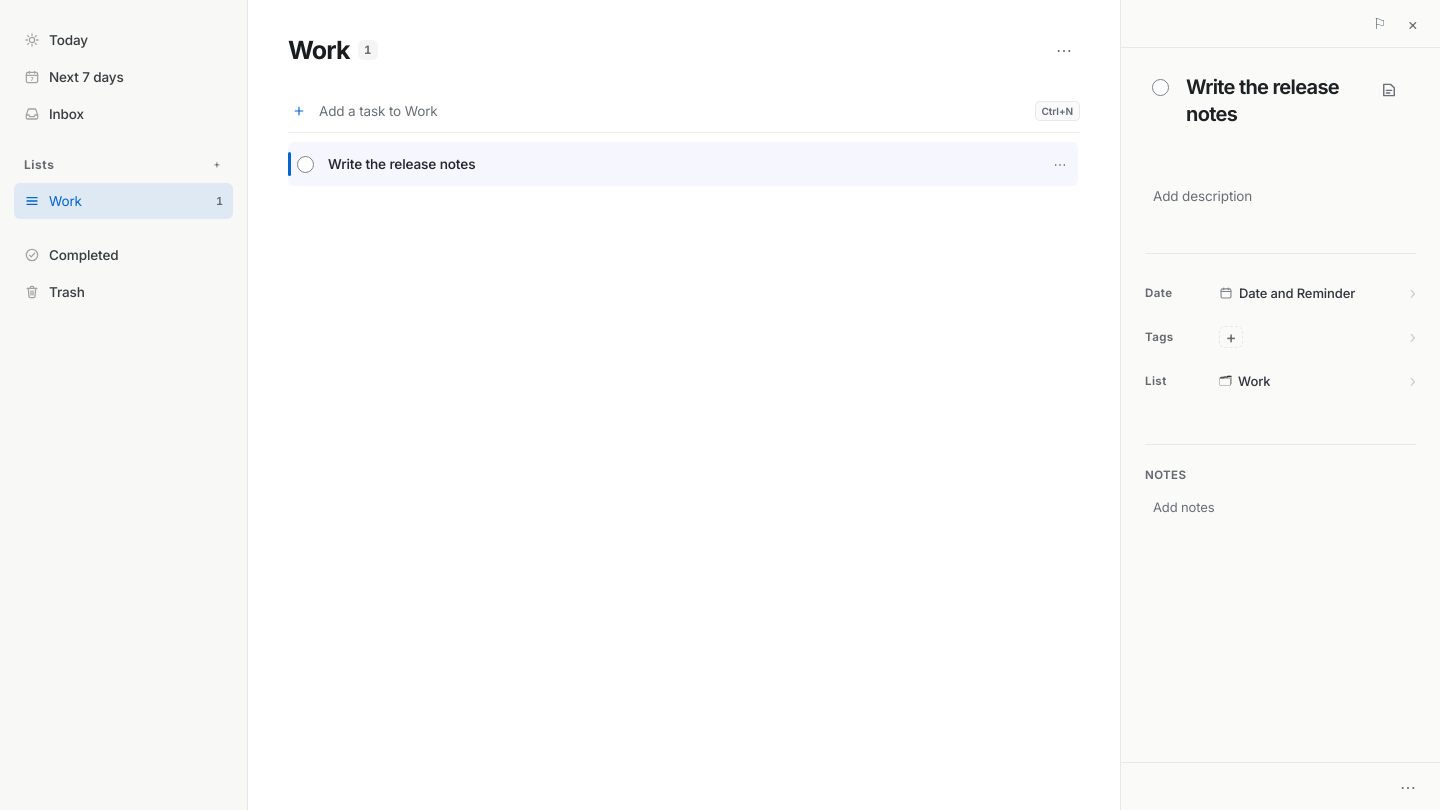
Test case: the Detail's More menu (§15.2, §15.3) › refuses Start Focus while another session runs, and says why (§15.5)
Later steps or results of the test are not shown.
Click the button named "More" at (1408, 786), box [1392,770,1424,802]
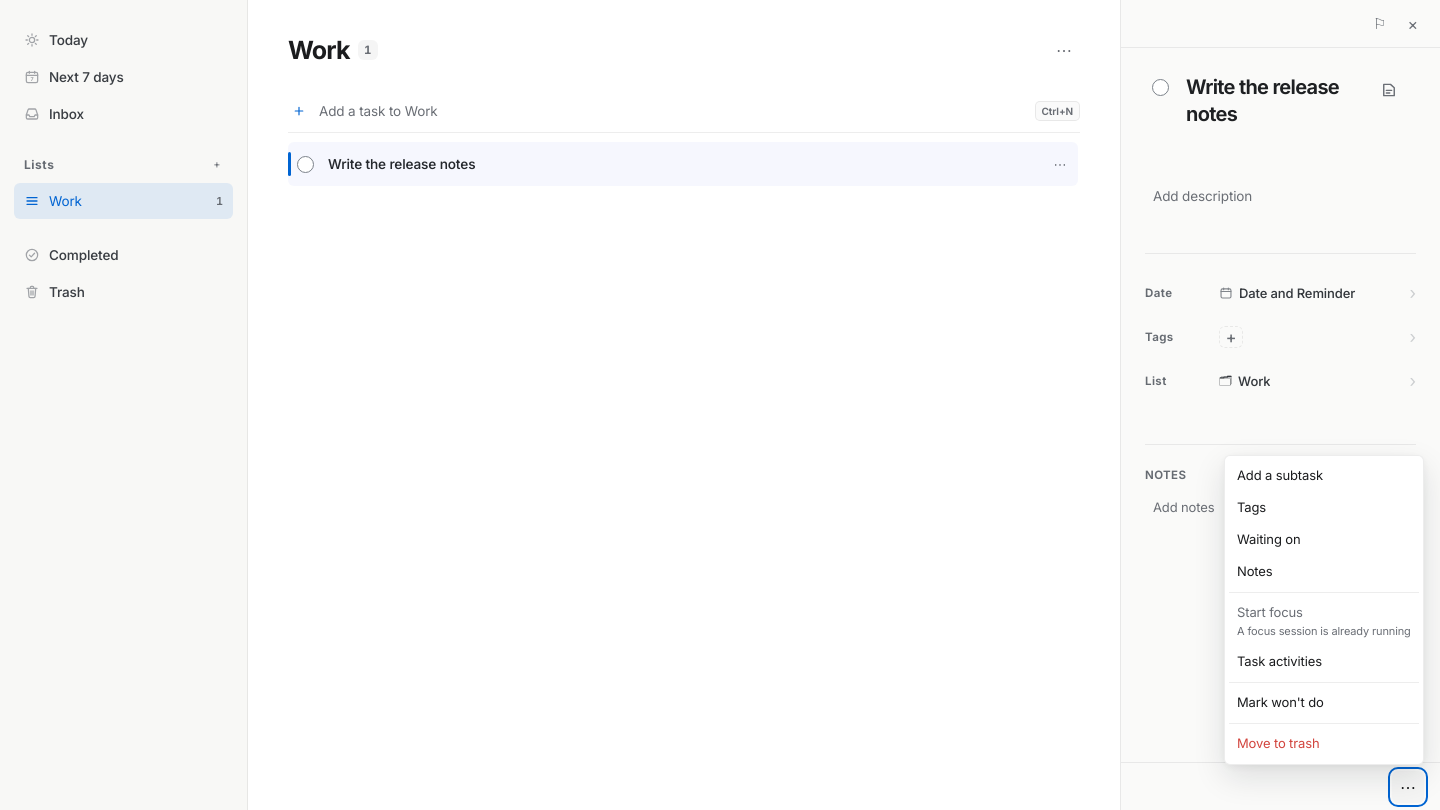
expect the menu item "Start focus A focus session is already running" is shown: met, box [1229,596,1419,646]
